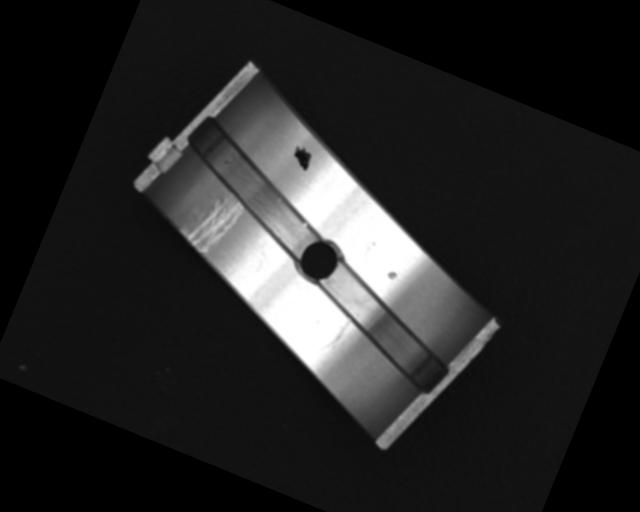blot: (287, 143, 316, 173)
bruise: (386, 269, 398, 280)
gap: (162, 112, 345, 259), (294, 260, 470, 396)
hole: (293, 234, 345, 288)
nick: (318, 312, 352, 359)
scratch: (177, 184, 246, 260)
